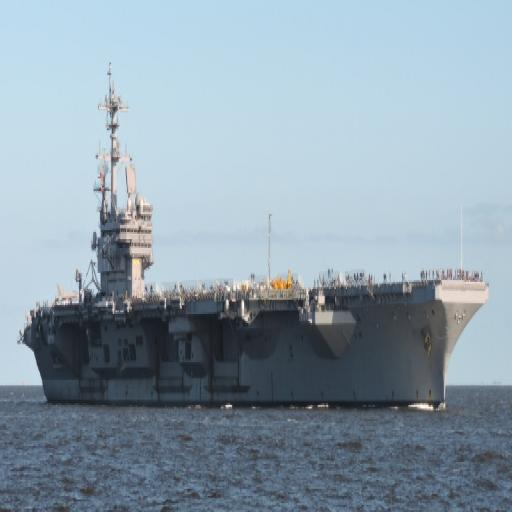Portanaves: (19, 21, 497, 420)
